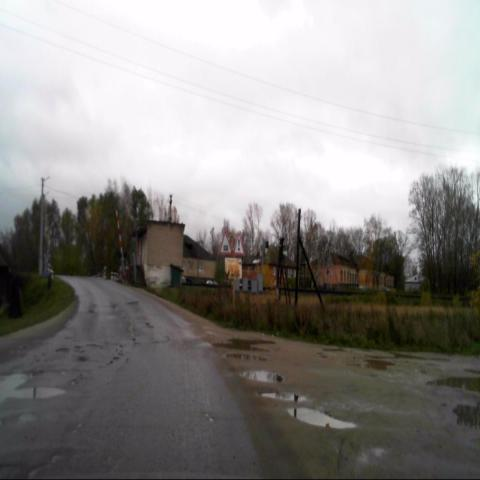1_33: (233, 235, 245, 256)
